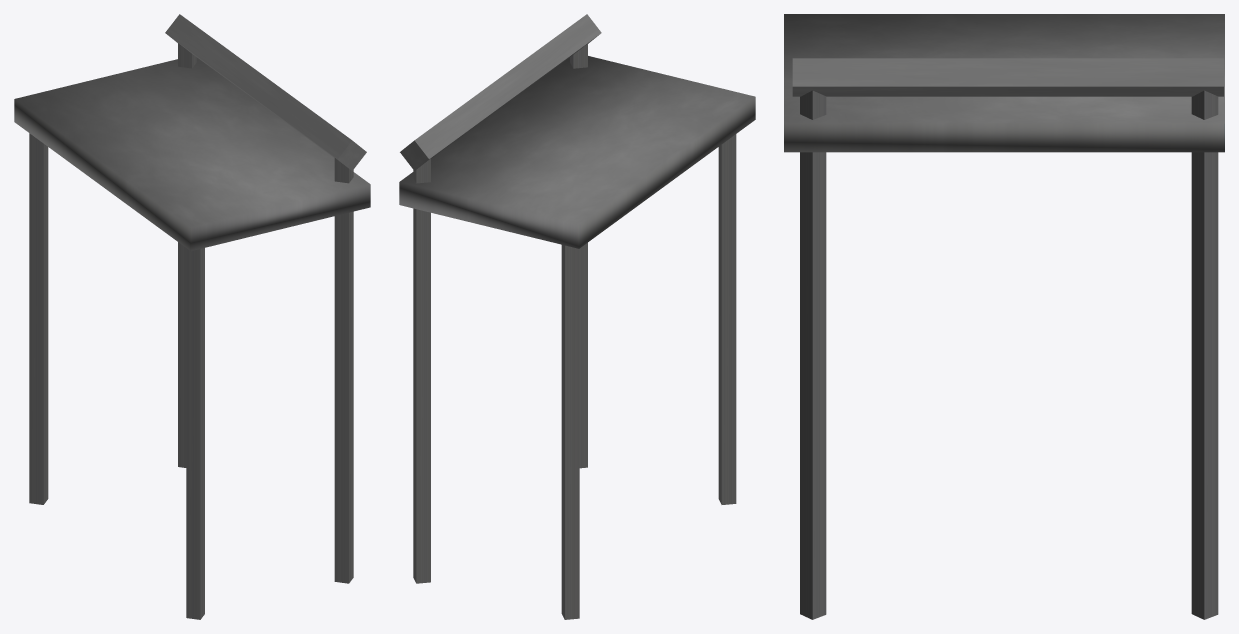
Rendered from flat_after_barrels.glb.
3 renders of one model, left to right at view 1: azimuth 30°, elevation 25°; view 2: azimuth 150°, elevation 25°; view 3: azimuth 270°, elevation 25°, orthographic. The views are drawn at different scales.
Visible parts, largest first — view 1: Plane.002; view 2: Plane.002; view 3: Plane.002.
Boxes of the visible parts, <box> form: Plane.002: <box>14,14,370,619</box>; Plane.002: <box>399,14,755,619</box>; Plane.002: <box>784,14,1224,619</box>.
Size of the model in its own units: 2.77 by 6.56 by 4.71.
Materials: 1 (1 with a texture image).
